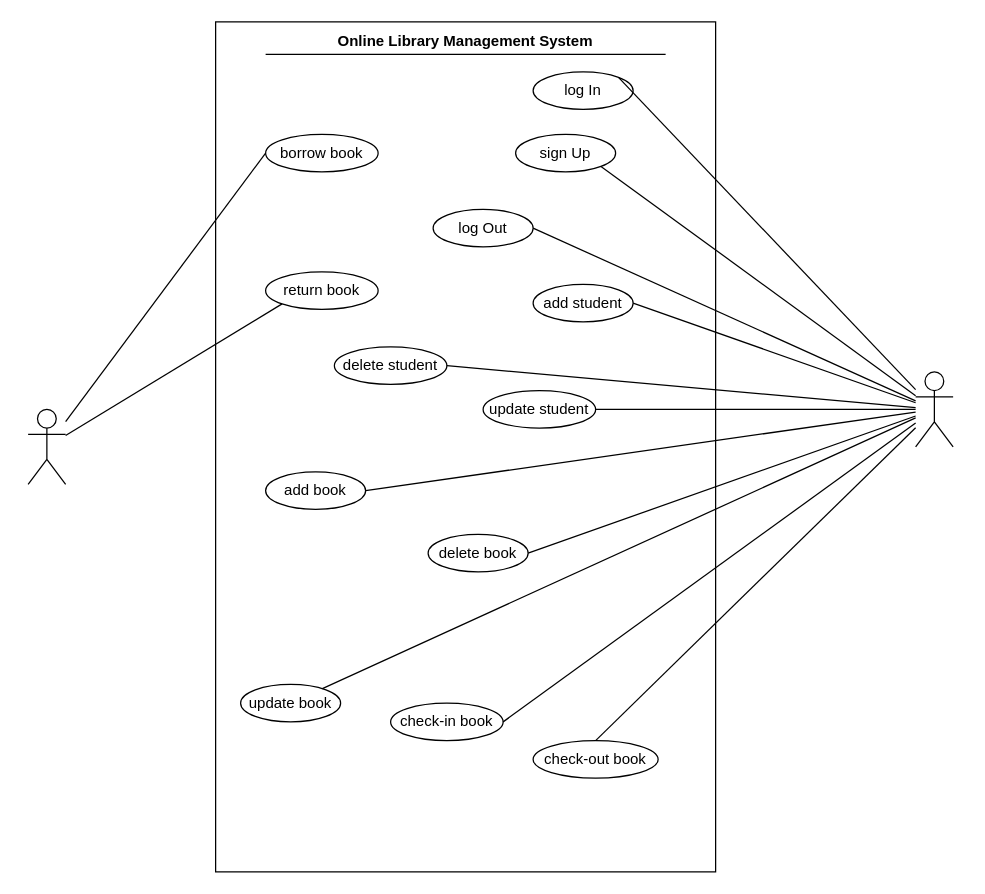
Some shapes in this 985 by 894 pixel diagram are drawn without their labels. Each missing label, with the centre of its shape:
"Librarian" goes at [933,409].
"Student" goes at [46,446].
